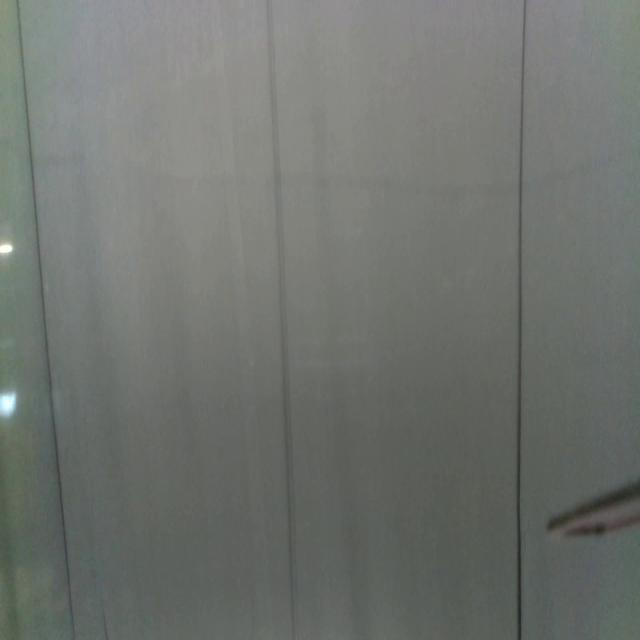color bleeding: (0, 145, 640, 202)
crease: (16, 1, 76, 638), (267, 1, 299, 640), (515, 0, 530, 640)
